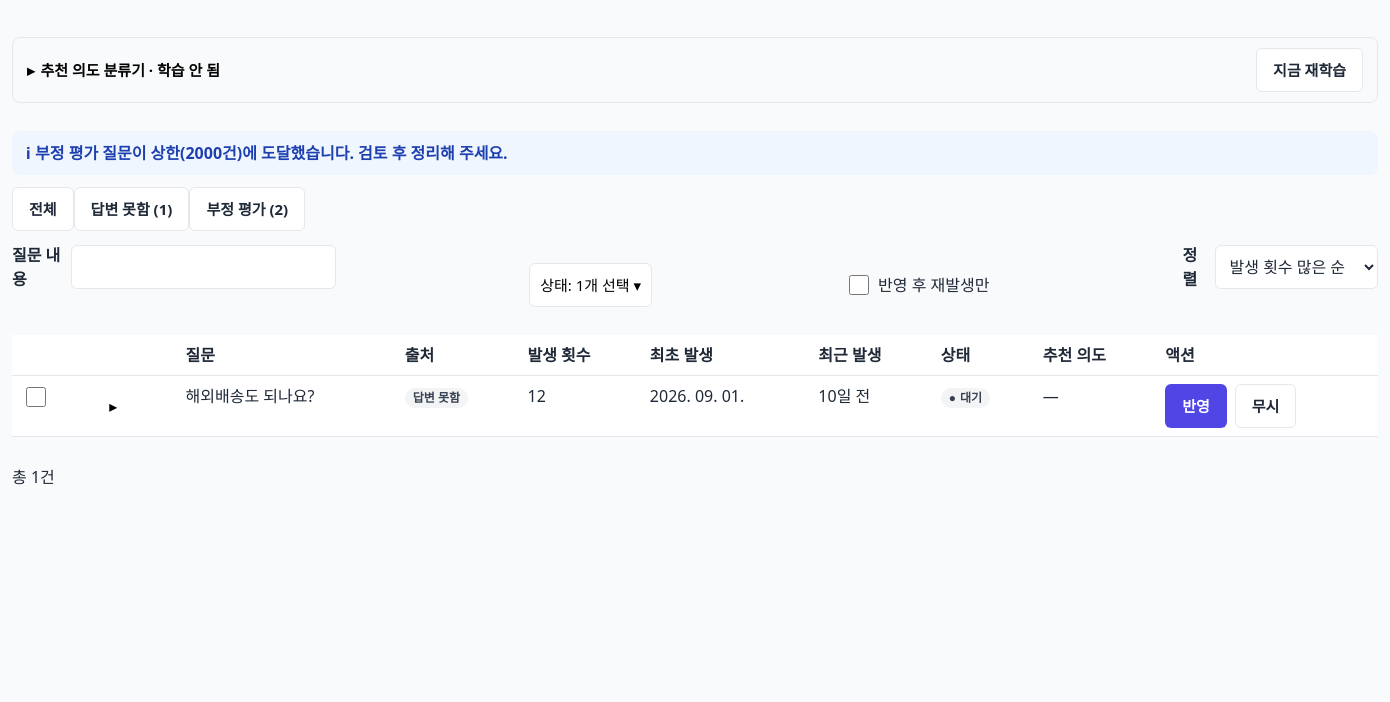
Test: LearningQueuePage — 부정 평가 소스 확장(No.44) › 미응답(UNANSWERED) 행을 펼치면 "직접 수정 완료"가 비활성 상태로 사유와 함께 렌더된다(숨기지 않음)
Check: the text "해외배송도 되나요?" is shown, box x1=176 y1=375 x2=395 y2=437
Click the button named "상세 펼치기". click: (113, 406)
box: x1=91 y1=384 x2=135 y2=428
(page scrolled)
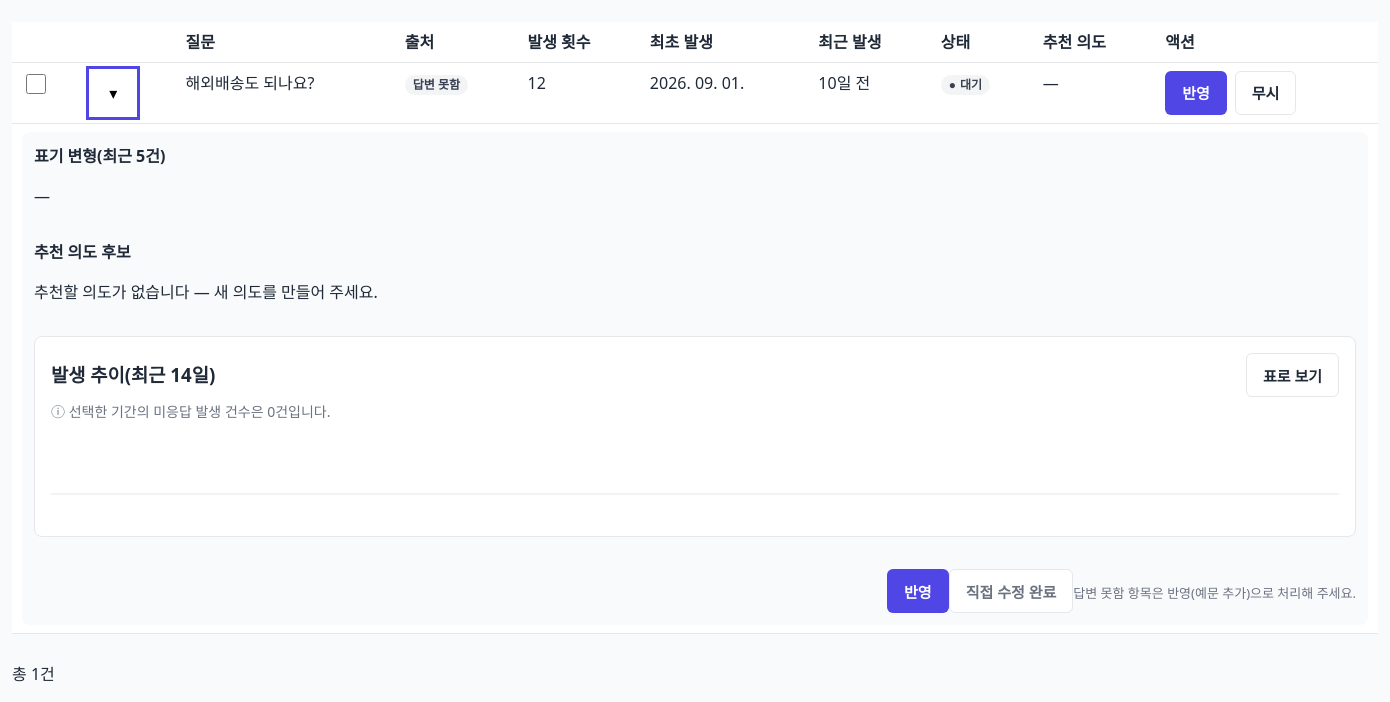
Check: the button "직접 수정 완료" is disabled, box x1=949 y1=569 x2=1073 y2=613
Check: the text "답변 못함 항목은 반영(예문 추가)으로 처리해 주세요." is shown, box x1=1073 y1=584 x2=1356 y2=602
